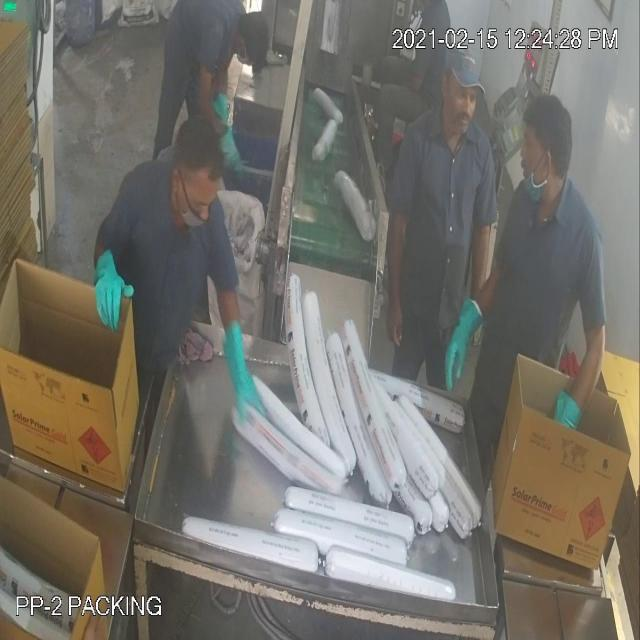Gloves: (34, 104, 465, 370)
